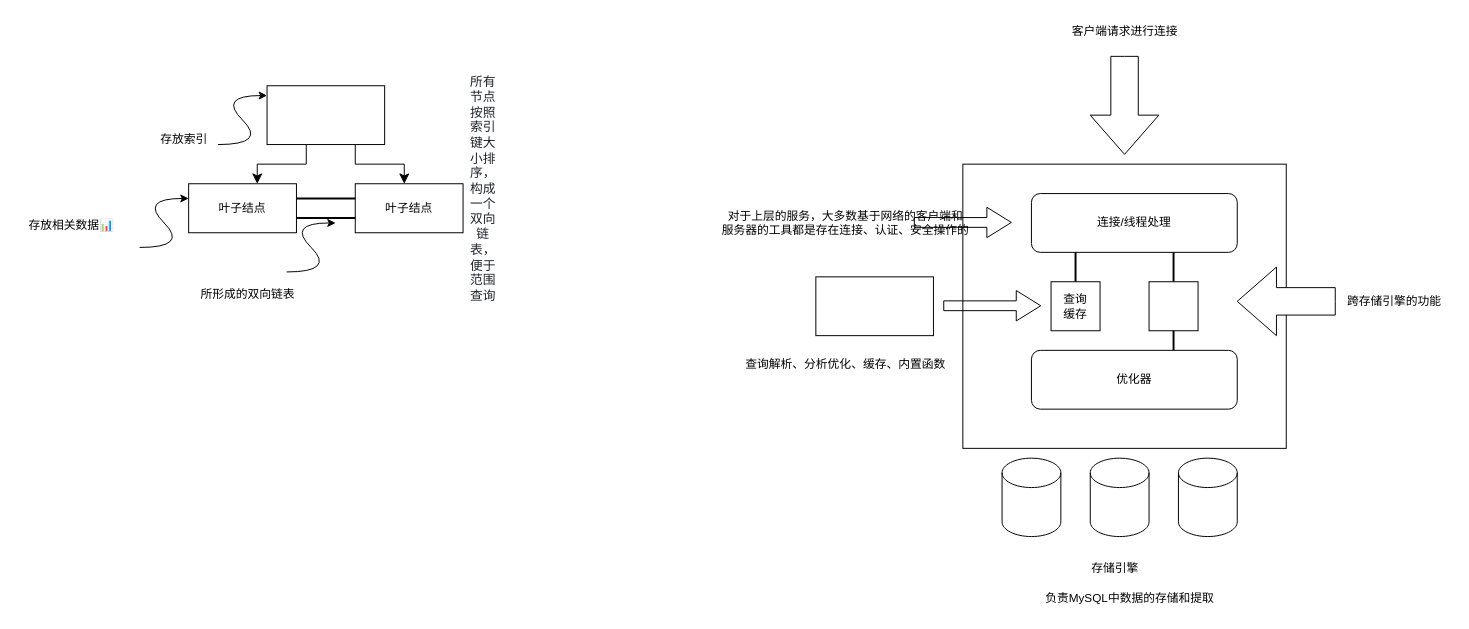
Image size: 1469x629. Some labels were removed from this diagram. Each missing label, with the centre of its shape:
MySQL核心服务: the point at 874,306
解析器: the point at 1173,306
非叶子结点: the point at 325,115
